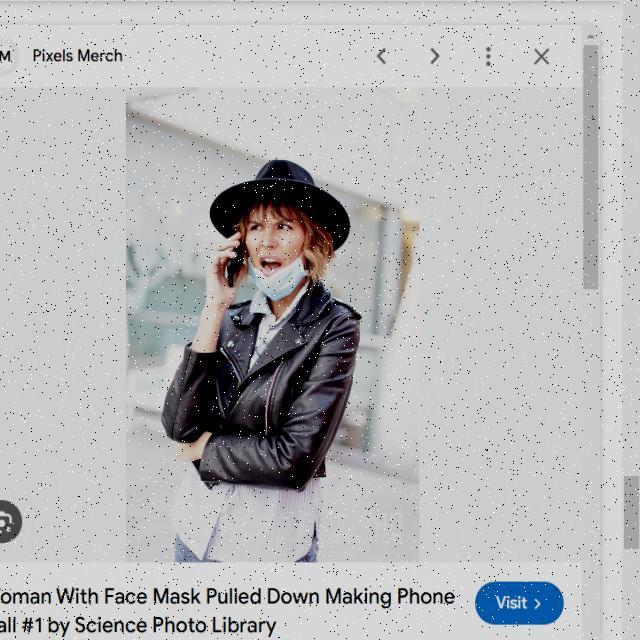face_no_mask: (236, 194, 316, 290)
